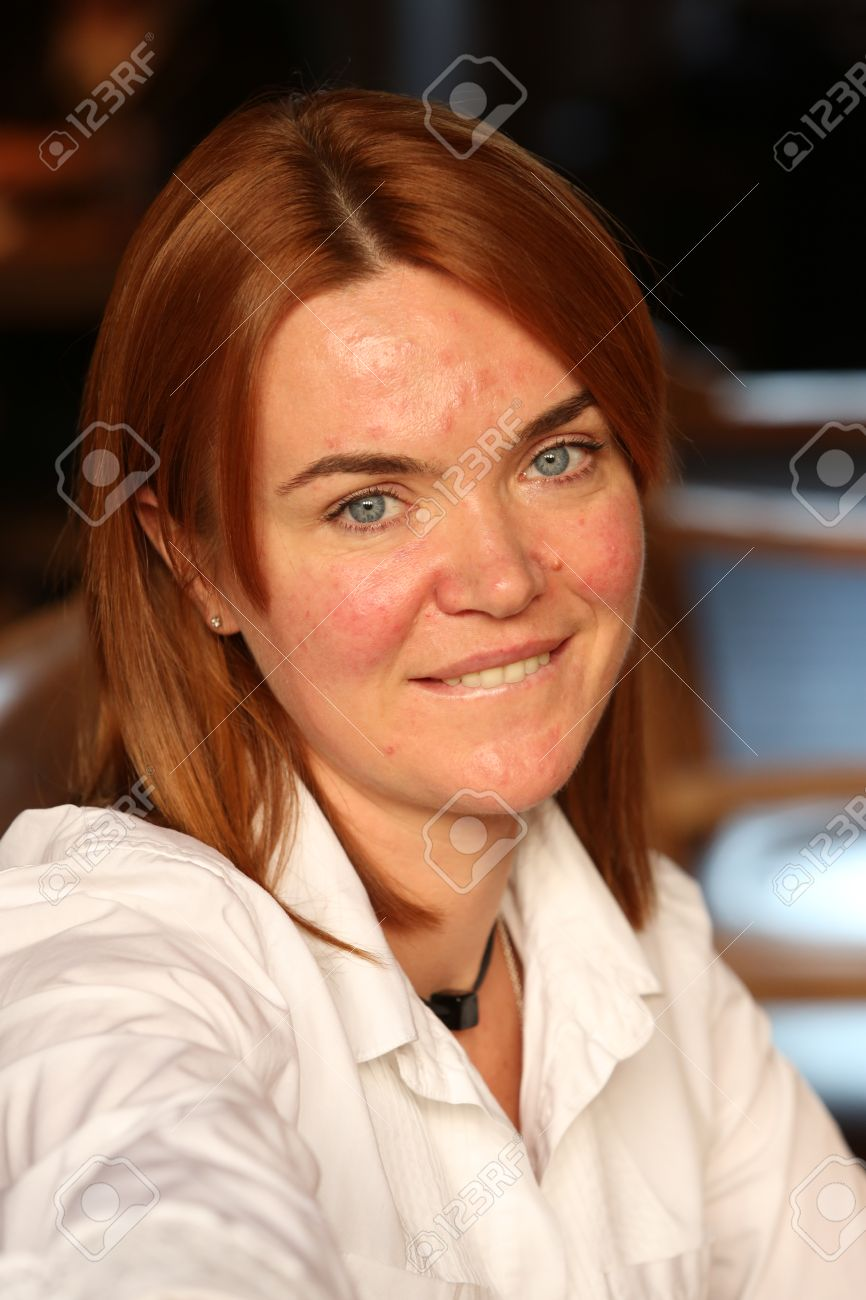acene: (501, 513, 688, 616)
